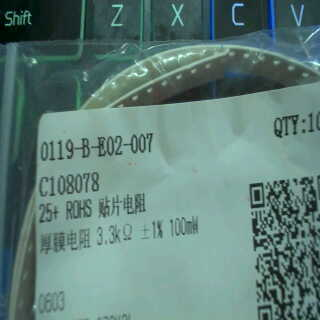3.3kO: (92, 218, 135, 250)
